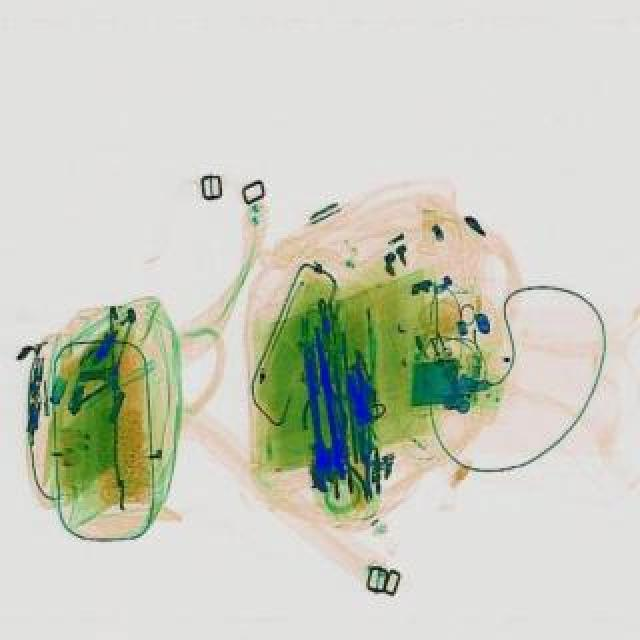scissors: (300, 344, 340, 492)
